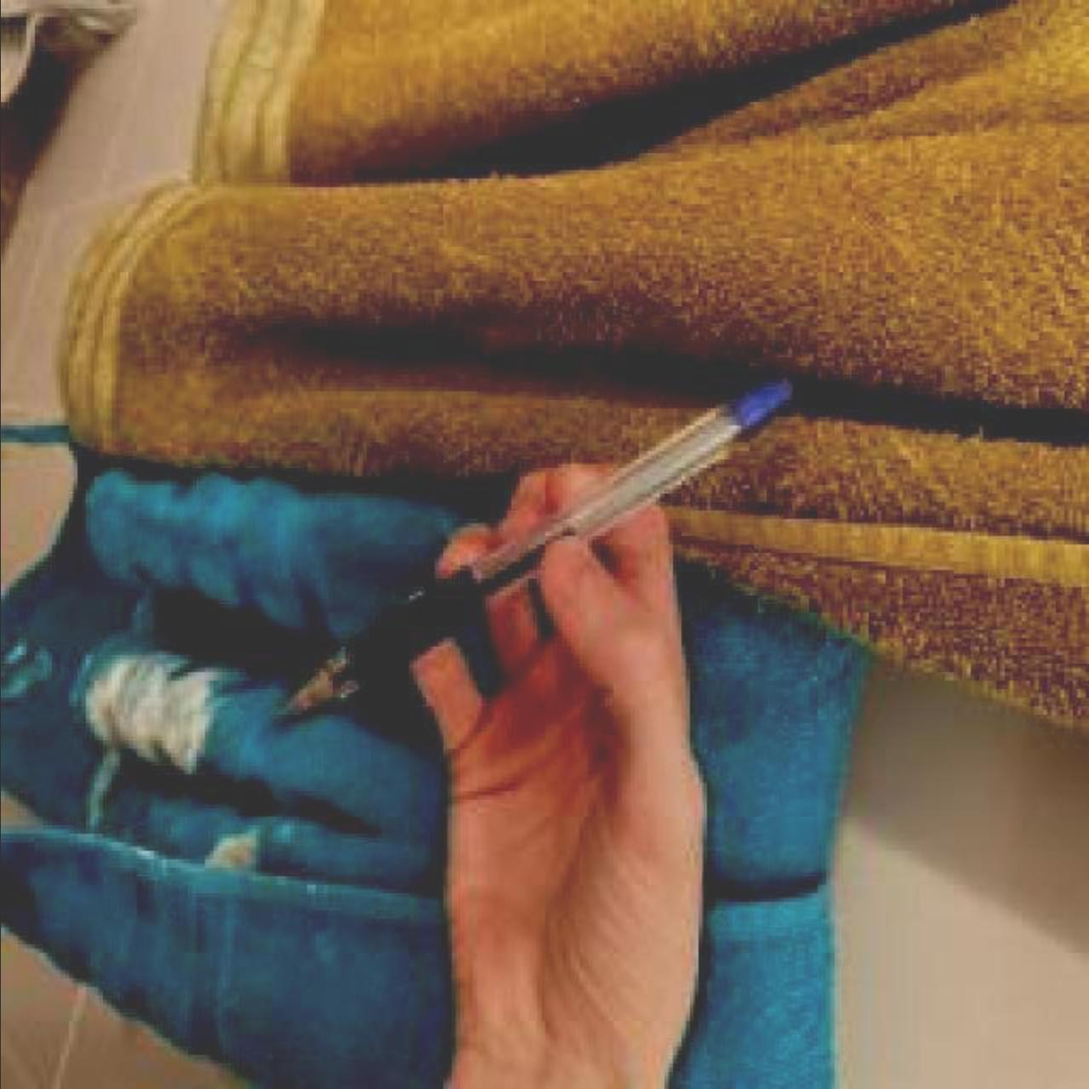pen: (271, 369, 795, 723)
